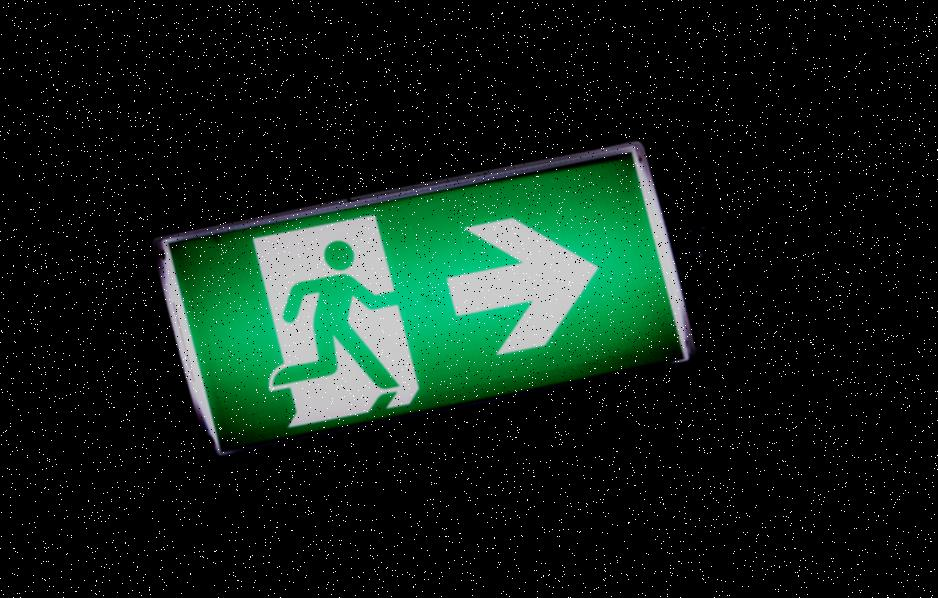emergency_exit: (154, 140, 695, 456)
